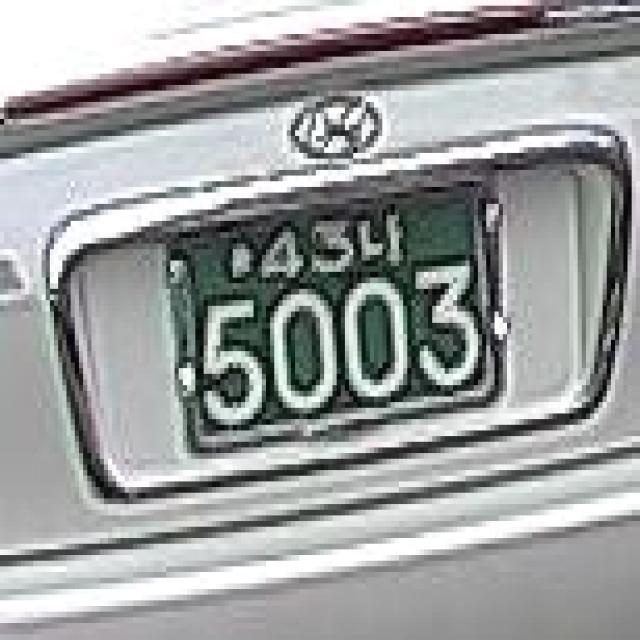illegal_plate: (157, 175, 516, 462)
